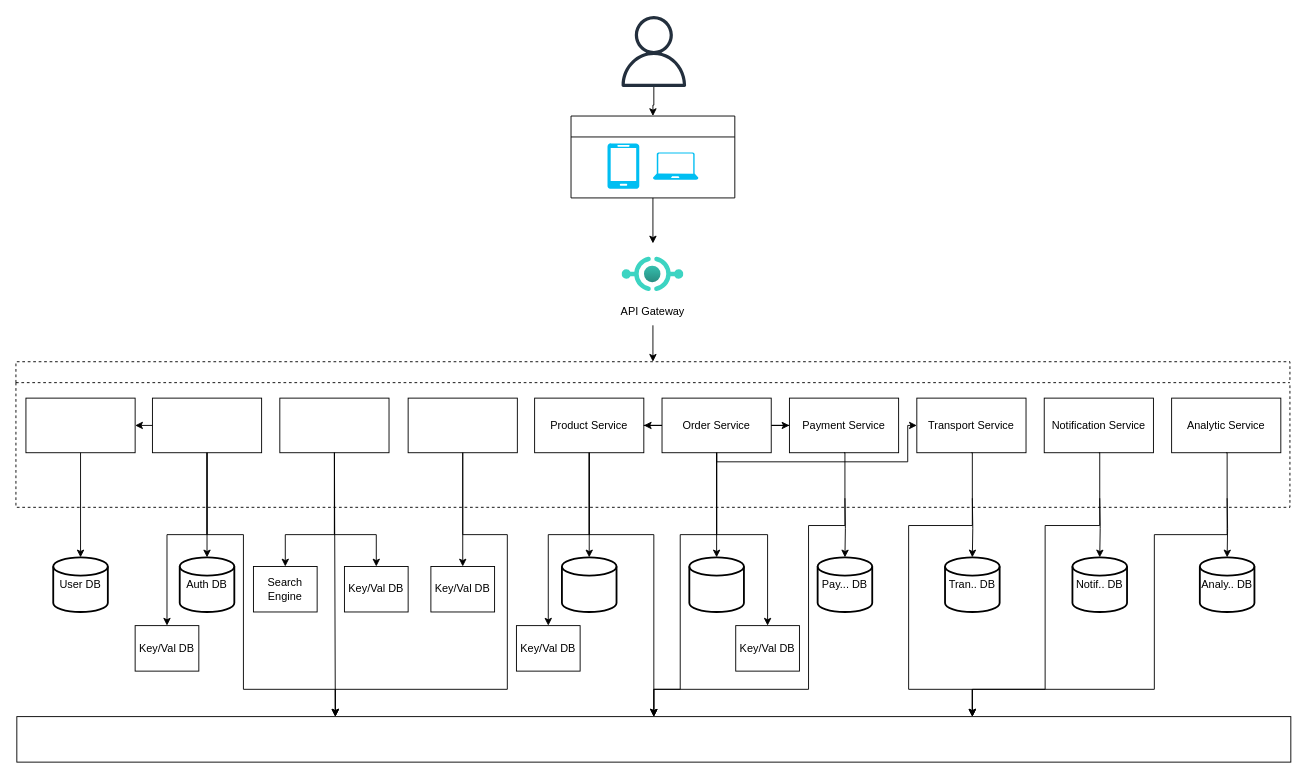
The diagram is 1307 pixels wide and 778 high, and some of its shapes have lost their labels. The box of each missing label's shape, as (x1, y1, x2, y2) in pixels:
Auth Service: (152, 397, 262, 453)
Event / Messaging Platform: (16, 716, 1291, 762)
Front Facing Application: (570, 115, 735, 198)
Microservices: (15, 361, 1290, 507)
Order DB: (688, 556, 744, 612)
Prod.. DB: (561, 556, 617, 612)
Recommendation Service: (407, 397, 517, 453)
Search Service: (279, 397, 389, 453)
User Service: (25, 397, 135, 453)
